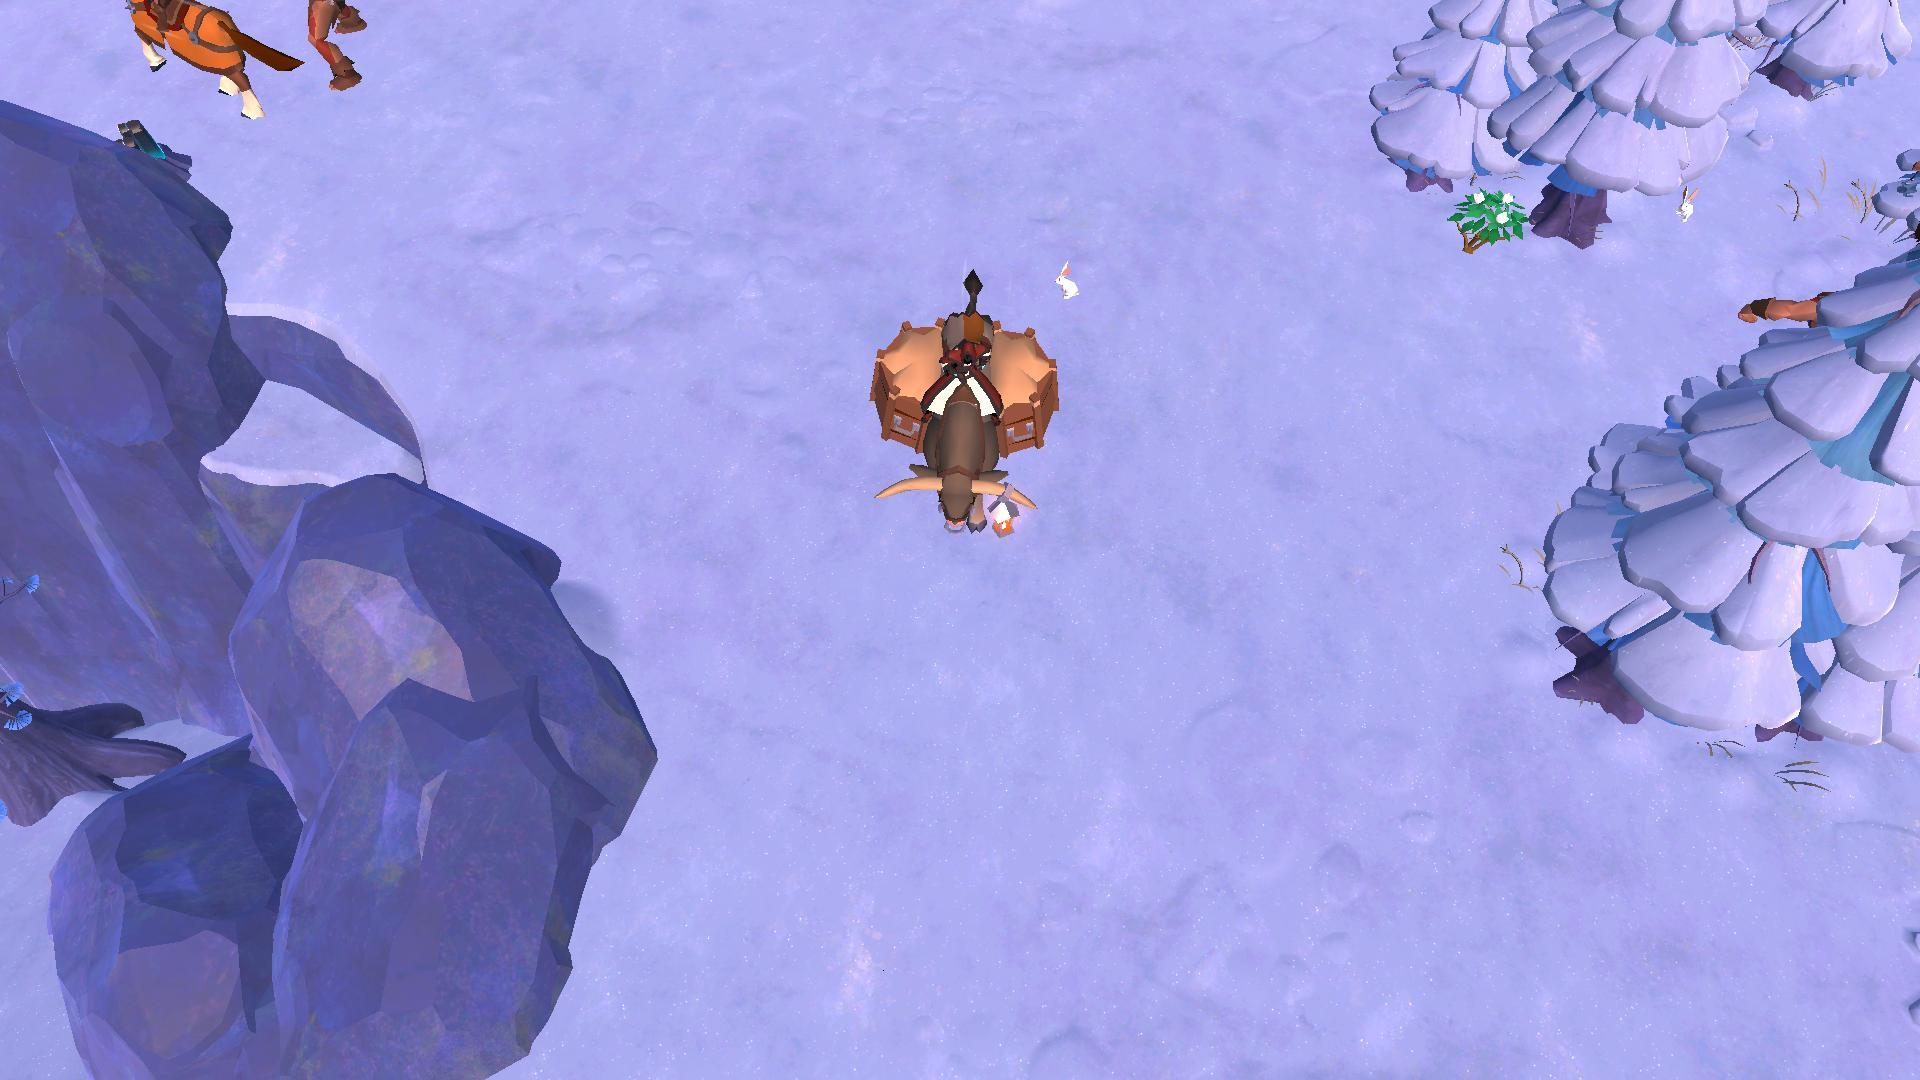ore_t3: (1447, 187, 1530, 268)
